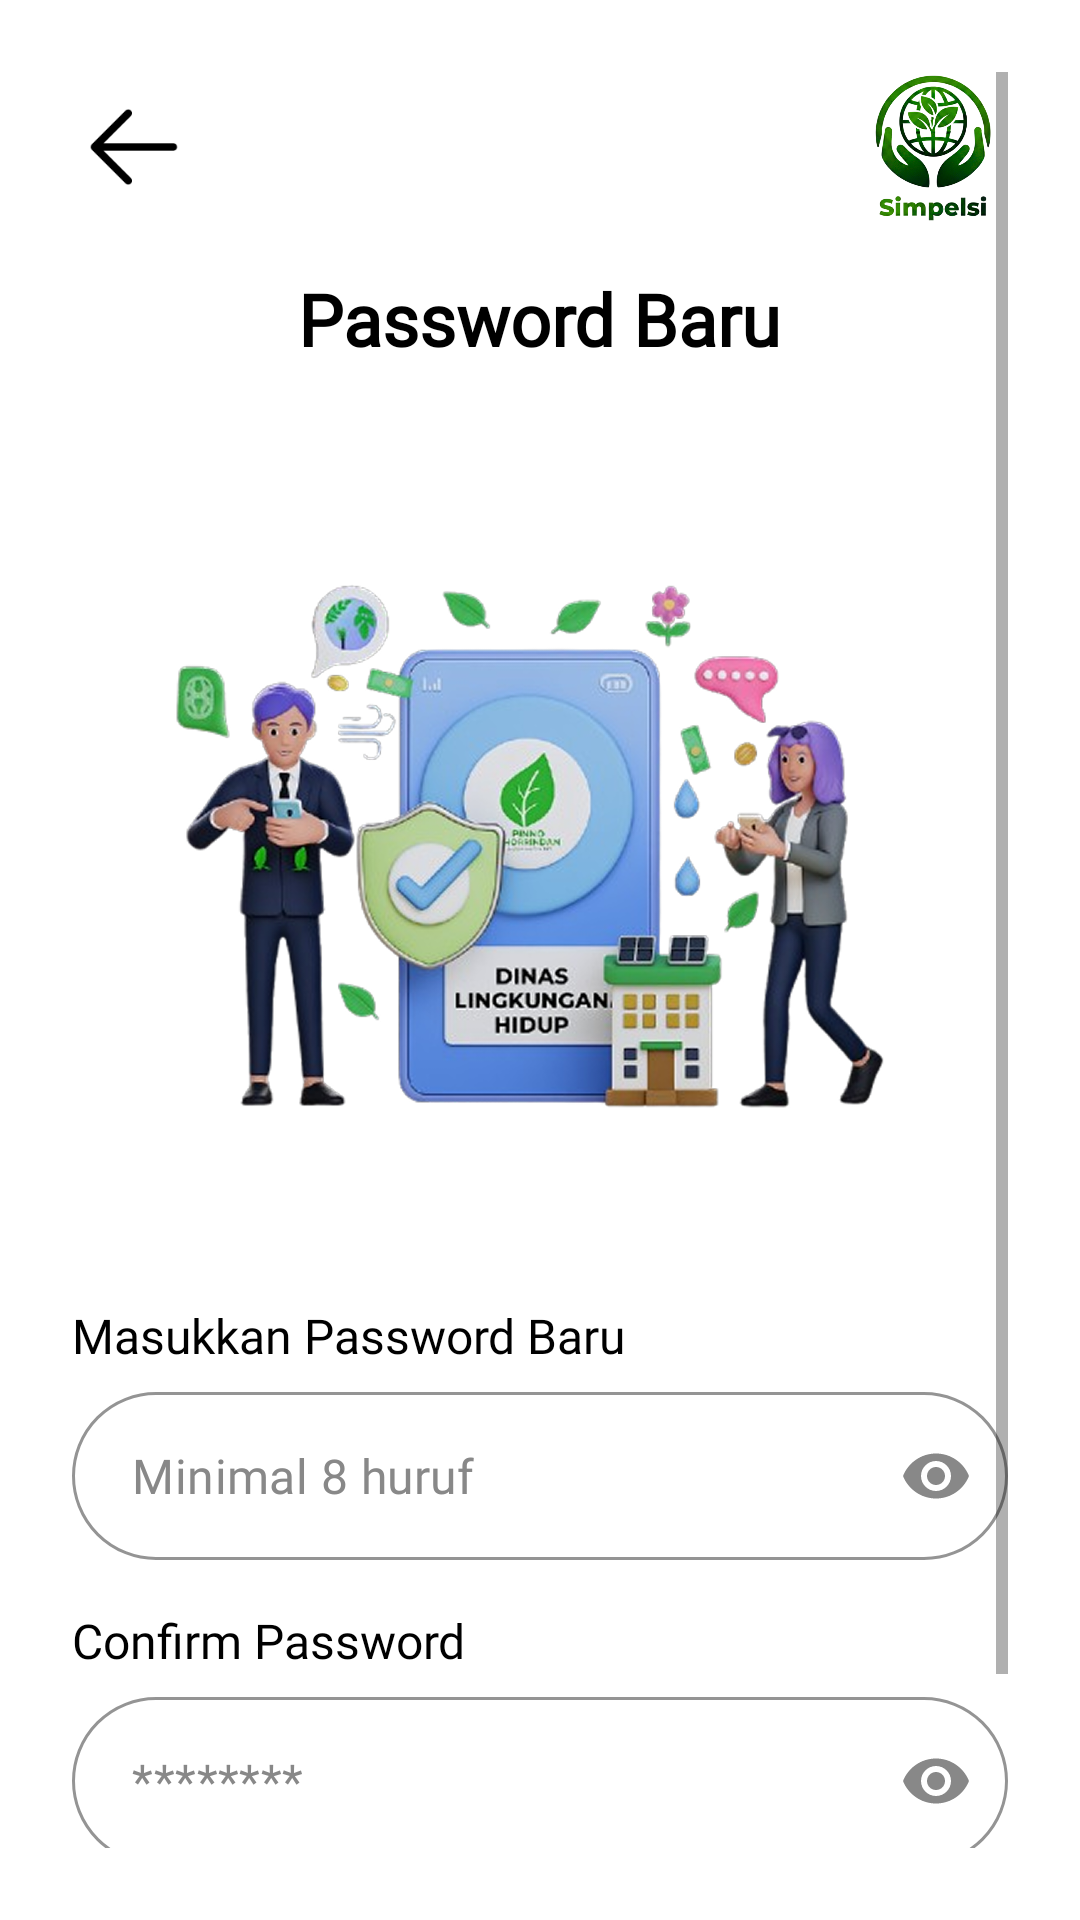

Icons on this 1080 x 1920 Android screen, each with its box as (x1, y1, x2, y2):
Kembali: (90, 109, 178, 185)
